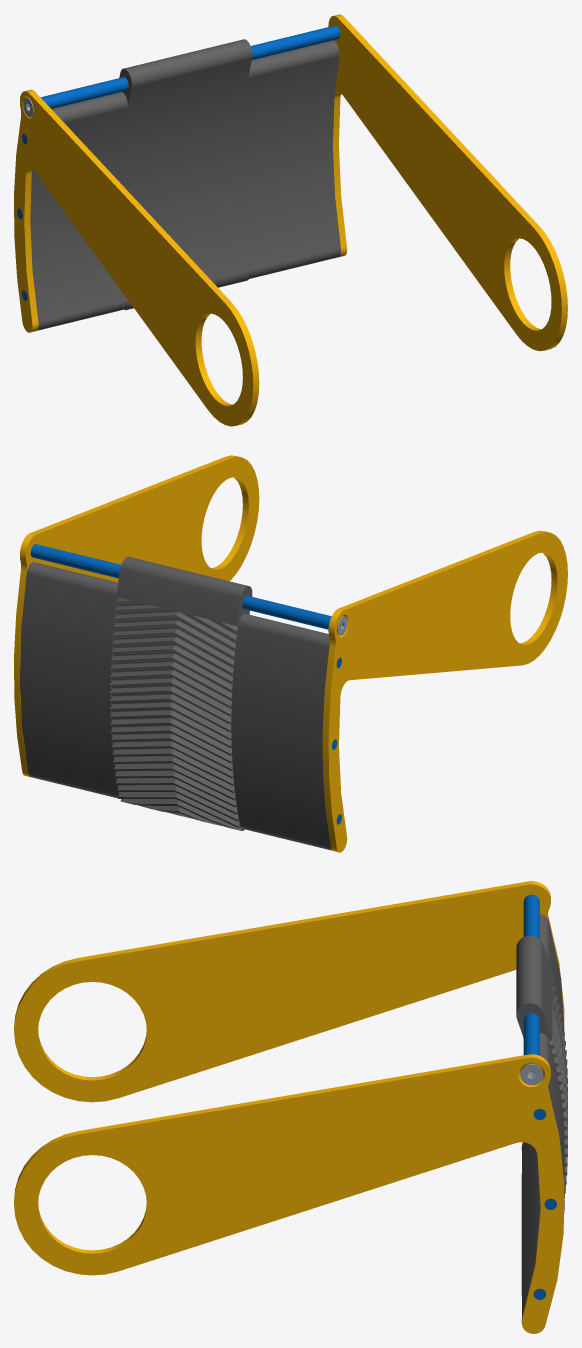
The picture shows the model from 3 angles, top to bottom: view 1: azimuth 30°, elevation 25°; view 2: azimuth 150°, elevation 25°; view 3: azimuth 270°, elevation 25°; orthographic projection. The views are drawn at different scales.
Parts seen in each view (by area): view 1: 295T Hood Gear, Hood Right Side, Hood Left Side, Hood Mounting Shaft; view 2: 295T Hood Gear, Hood Right Side, Hood Left Side, Hood Mounting Shaft; view 3: Hood Left Side, Hood Right Side, 295T Hood Gear, Hood Mounting Shaft.
Part boxes in pixels (left/top/right/bottom): 295T Hood Gear: left=30, top=39, right=340, bottom=330; Hood Right Side: left=14, top=89, right=259, bottom=426; Hood Left Side: left=328, top=14, right=567, bottom=351; Hood Mounting Shaft: left=41, top=25, right=340, bottom=108; 295T Hood Gear: left=20, top=556, right=331, bottom=850; Hood Right Side: left=322, top=530, right=567, bottom=852; Hood Left Side: left=14, top=455, right=259, bottom=777; Hood Mounting Shaft: left=30, top=544, right=331, bottom=629; Hood Left Side: left=14, top=1054, right=564, bottom=1333; Hood Right Side: left=14, top=881, right=564, bottom=1150; 295T Hood Gear: left=516, top=914, right=567, bottom=1316; Hood Mounting Shaft: left=523, top=894, right=539, bottom=1055.
Bounding box in the file's own units: 0.1657 × 0.1217 × 0.2197.
